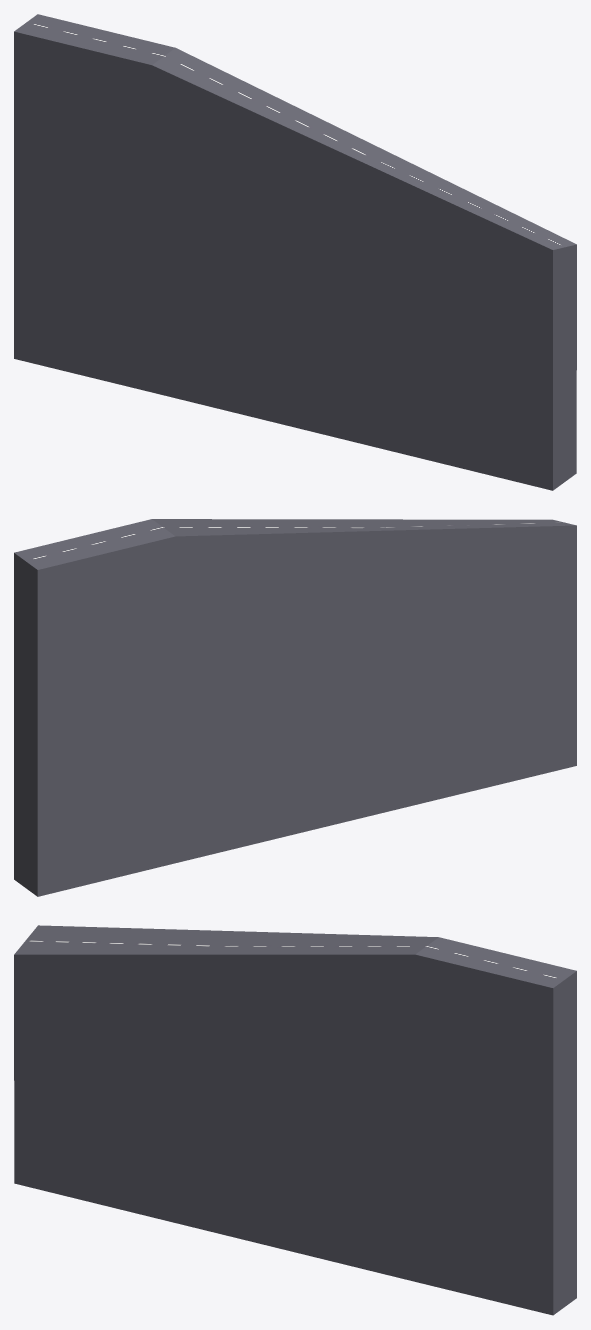
The model's file is road_09.gltf.
3 views of the same model, one above another, from view 1: azimuth 90°, elevation 25°; view 2: azimuth 150°, elevation 25°; view 3: azimuth 270°, elevation 25° (orthographic).
Visible parts, largest first — view 1: road; view 2: road; view 3: road.
Boxes of the visible parts, x1=… form: road: x1=14, y1=14, x2=576, y2=490; road: x1=14, y1=519, x2=576, y2=896; road: x1=14, y1=925, x2=576, y2=1315.
Bounding box in the file's own units: 9.06 × 9.26 × 14.43.
1 material, 1 textured.
